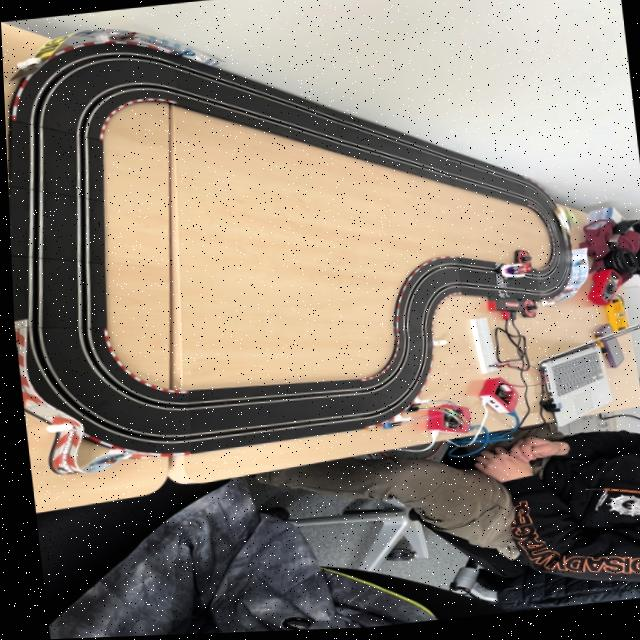mario: (493, 265, 530, 284)
yoshi: (548, 206, 579, 239)
